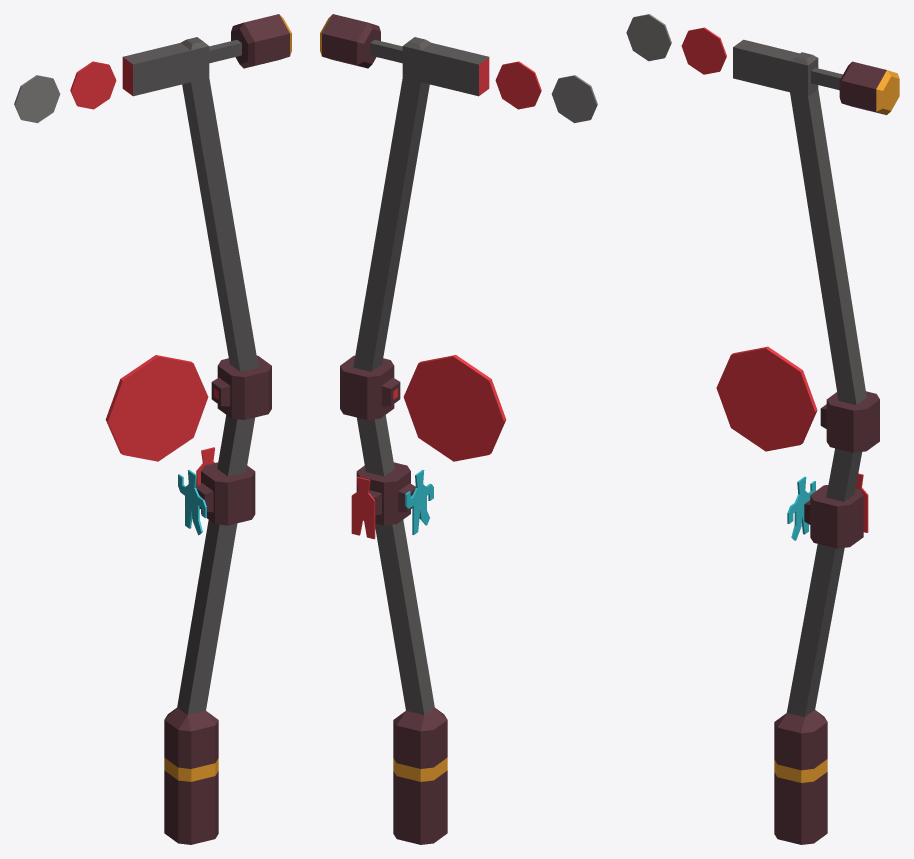
Rendered from scifi-traffic-lights-corner-a.fbx.
The picture shows the model from 3 angles, left to right: view 1: azimuth 30°, elevation 25°; view 2: azimuth 150°, elevation 25°; view 3: azimuth 330°, elevation 25°; orthographic projection.
Parts seen in each view (by area): view 1: scifi-traffic-lights-corner-a; view 2: scifi-traffic-lights-corner-a; view 3: scifi-traffic-lights-corner-a.
Part boxes in pixels (x1,y1,x2,y2): scifi-traffic-lights-corner-a: (14,14,291,844); scifi-traffic-lights-corner-a: (320,14,597,844); scifi-traffic-lights-corner-a: (626,14,899,844).
Size of the model in its own units: 3.12 by 8.84 by 0.6887.
